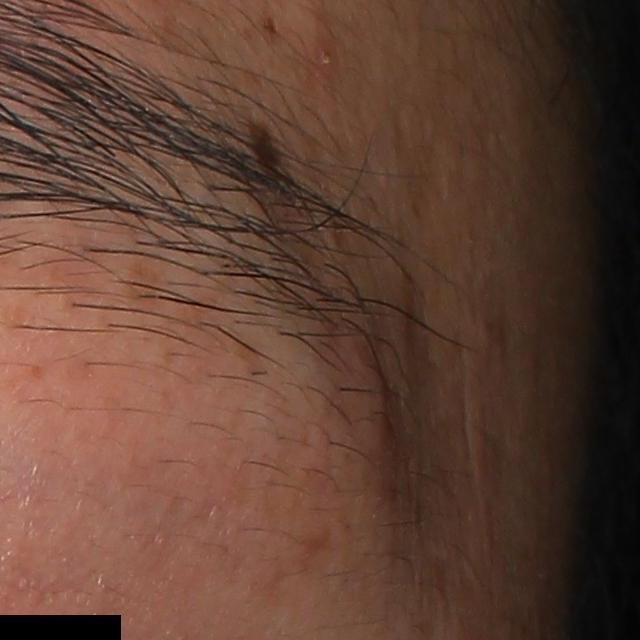nevus: (246, 119, 280, 183)
